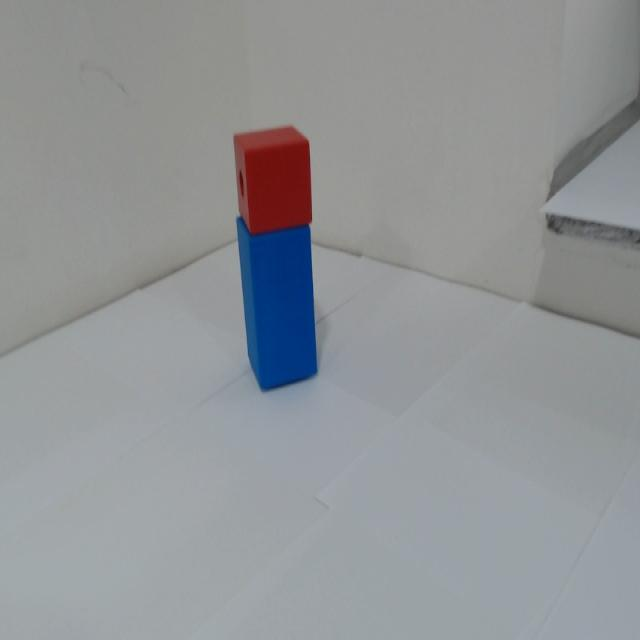cube: (224, 124, 333, 234)
